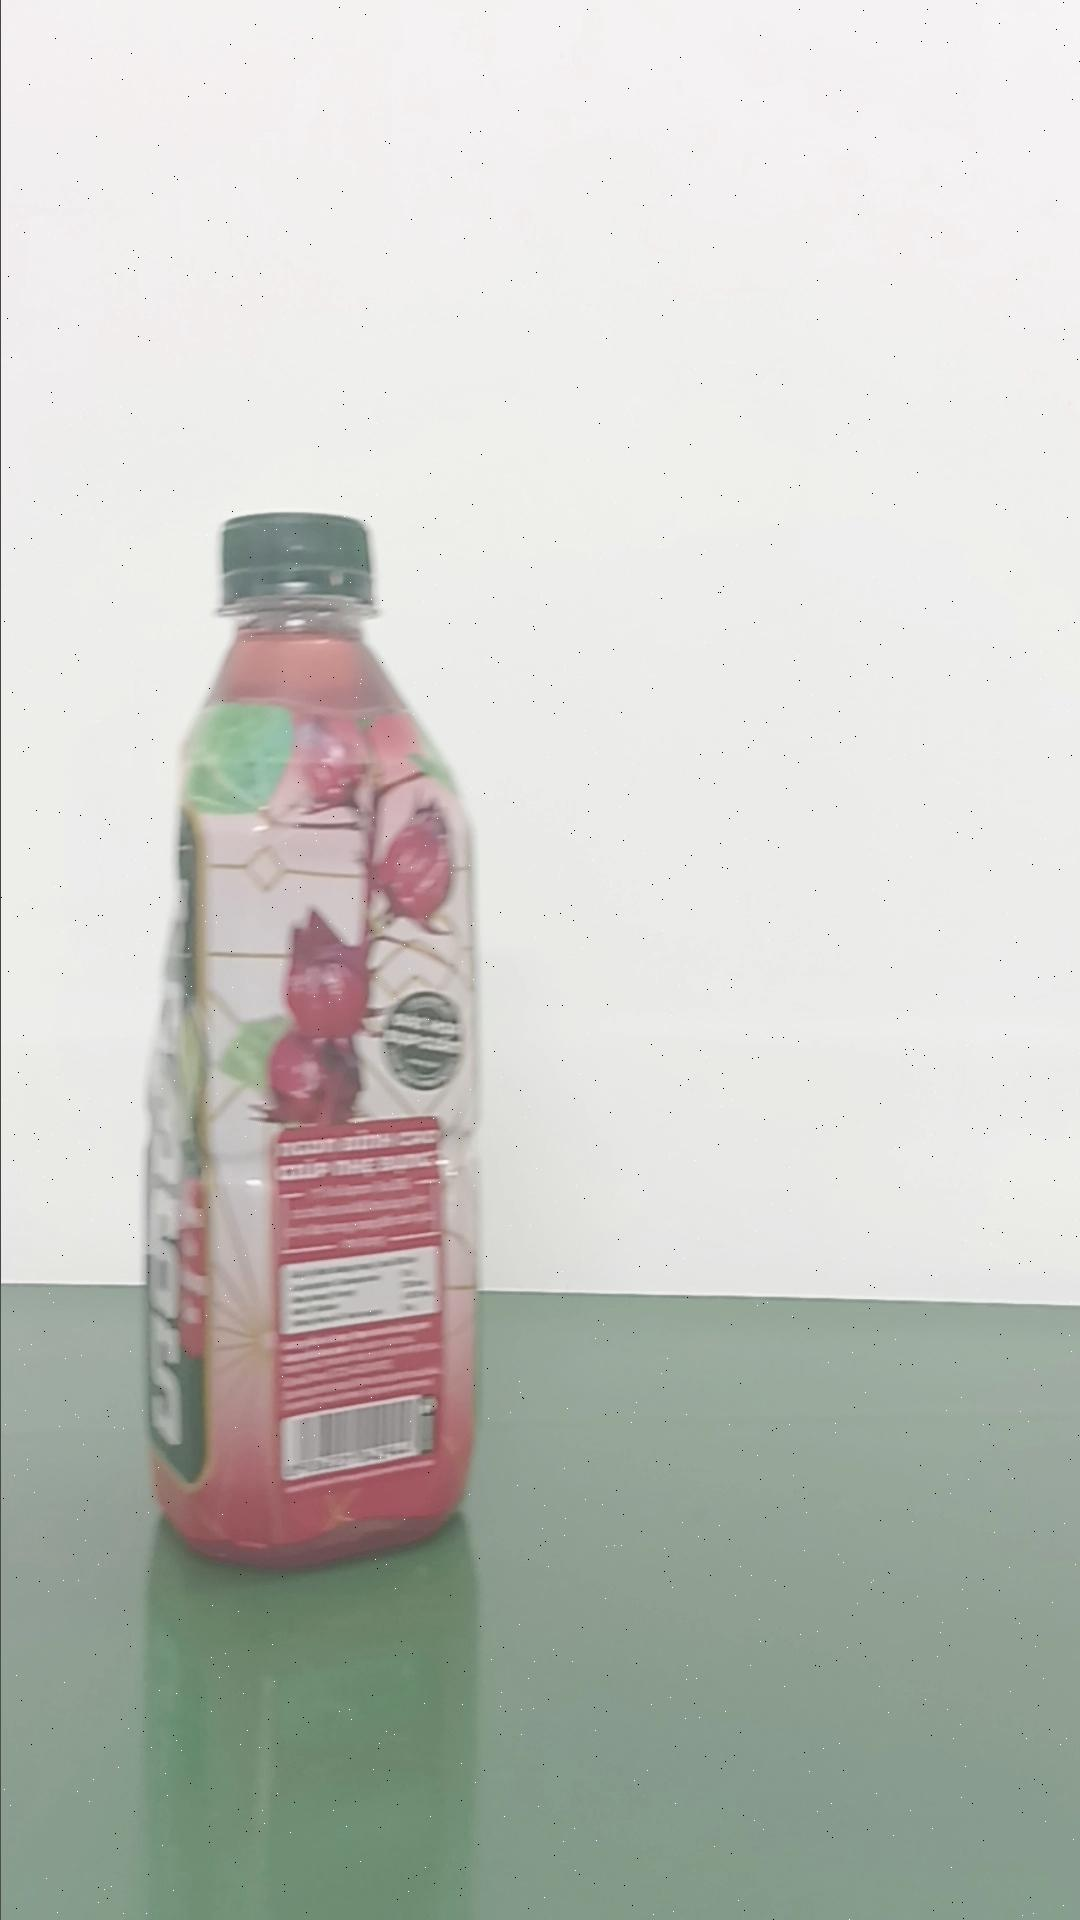loi meo sp: (138, 506, 485, 1571)
